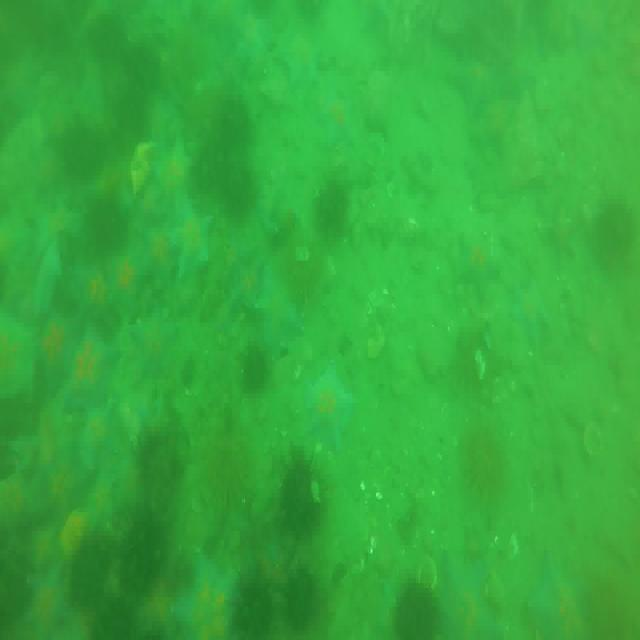echinus: (194, 422, 250, 523), (461, 417, 509, 512), (193, 144, 254, 206), (278, 462, 326, 531), (595, 203, 637, 269), (71, 533, 109, 605), (86, 176, 126, 244), (120, 520, 160, 584), (55, 114, 99, 172), (392, 581, 435, 640), (228, 578, 267, 640), (87, 4, 125, 60), (316, 186, 350, 248), (283, 572, 316, 632), (89, 597, 135, 640), (221, 98, 249, 137), (243, 354, 268, 394)
scallop: (582, 426, 605, 461)
starfish: (435, 549, 507, 640), (165, 550, 237, 640), (59, 318, 122, 418), (528, 555, 590, 640), (300, 364, 352, 448), (247, 268, 302, 335), (448, 51, 502, 117), (167, 202, 212, 271), (234, 221, 271, 303), (24, 568, 66, 640), (450, 234, 497, 296), (272, 20, 318, 80), (105, 252, 151, 310), (512, 280, 550, 348), (132, 303, 170, 371), (115, 379, 154, 444), (74, 256, 111, 316), (30, 240, 59, 308), (319, 86, 352, 144), (85, 408, 115, 468)
